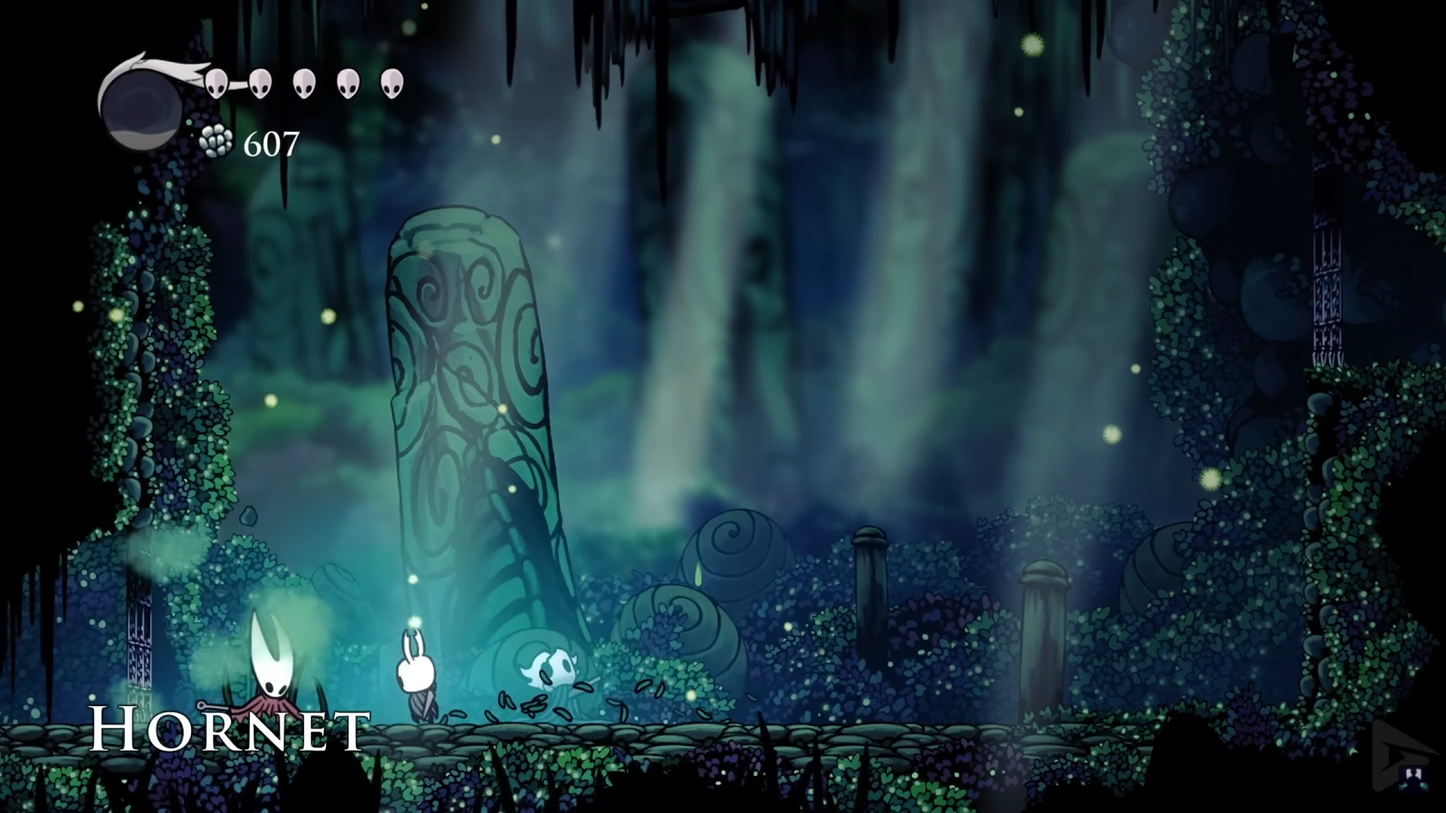HK: (390, 626, 446, 727)
